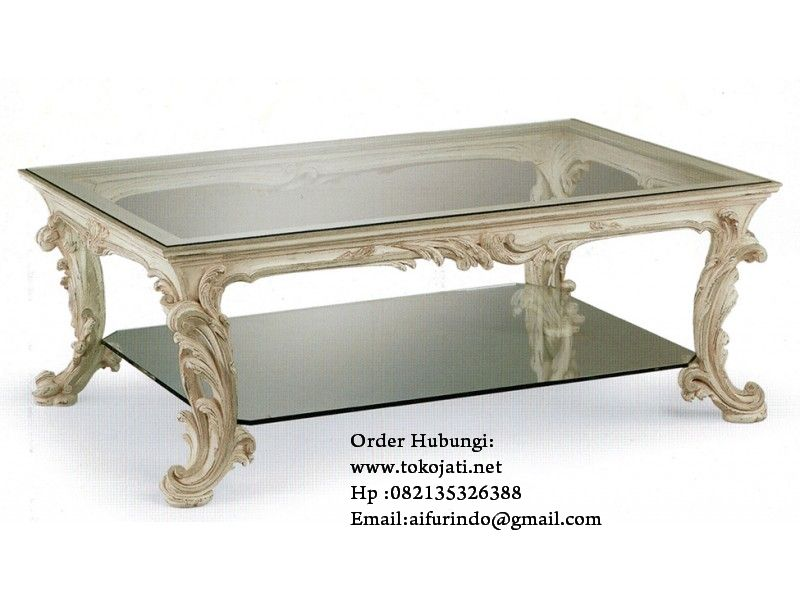Carving Table: (32, 118, 780, 479)
